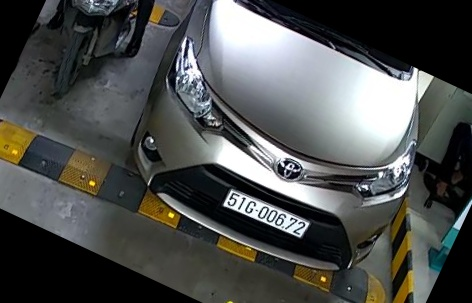plate: (220, 184, 310, 245)
